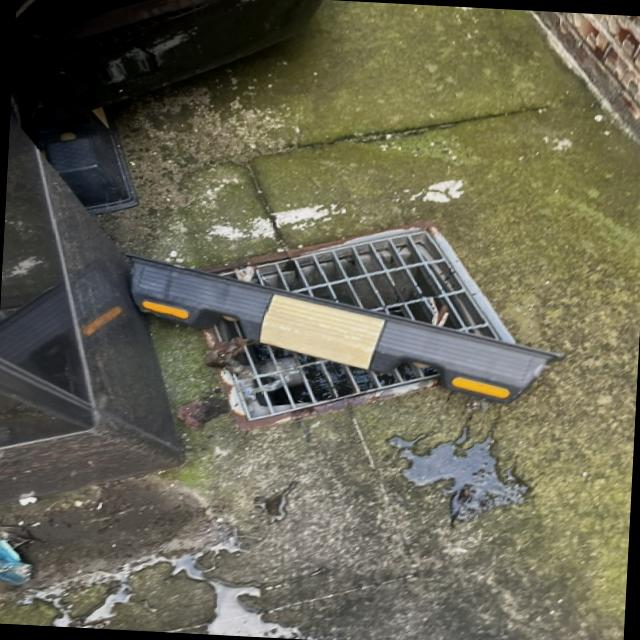drain_area: (250, 230, 504, 344), (230, 342, 441, 424), (214, 320, 244, 343), (216, 271, 236, 280)
drain_full: (195, 229, 510, 421)
